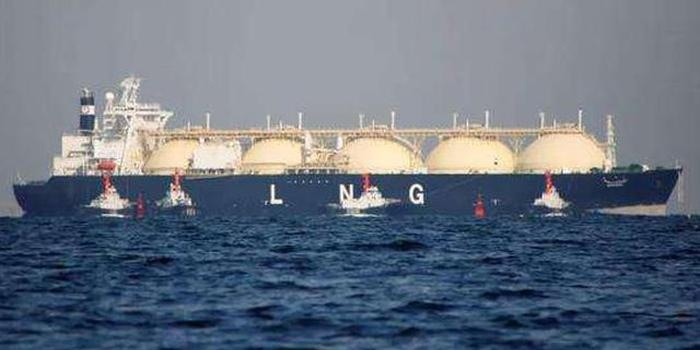Cargoship: (10, 64, 683, 221)
otherboat: (319, 172, 421, 222), (143, 165, 206, 229), (522, 171, 605, 217), (76, 174, 139, 230)
